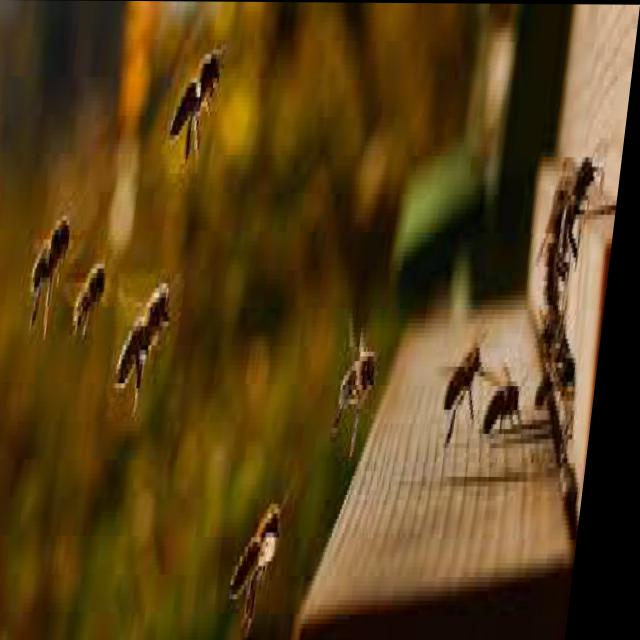Abeille: (109, 269, 192, 426), (236, 479, 309, 635), (167, 21, 238, 174), (32, 200, 84, 338), (442, 320, 499, 438), (340, 328, 396, 443), (543, 162, 582, 314), (74, 246, 117, 360), (492, 357, 540, 444)
